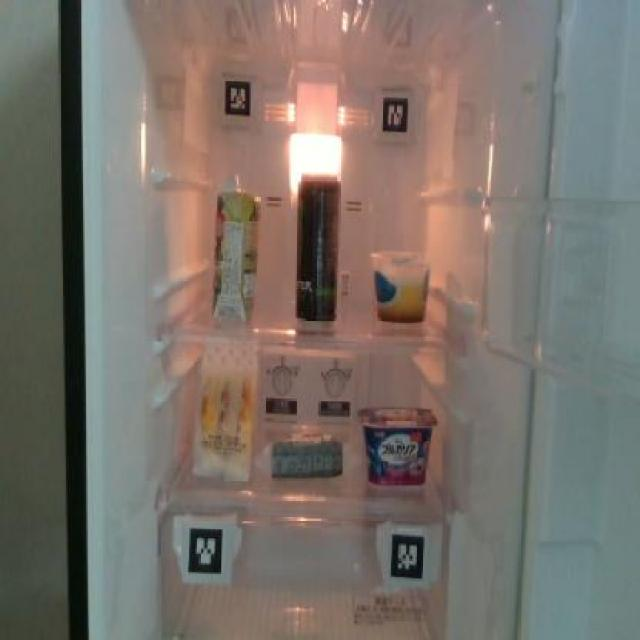energy_drink: (294, 171, 338, 320)
pudding: (369, 246, 434, 322)
rice_ball: (258, 417, 358, 478)
sandwich: (190, 334, 258, 481)
smoothie: (210, 169, 261, 323)
yogurt: (356, 402, 438, 490)
